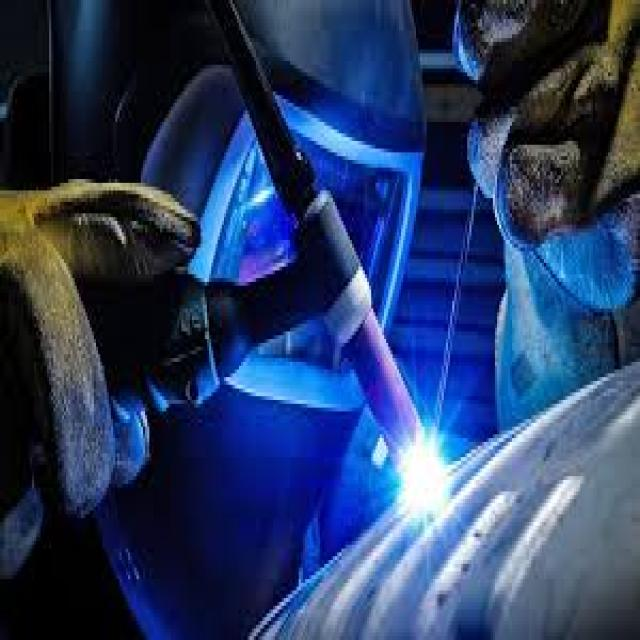welding: (390, 429, 451, 522)
